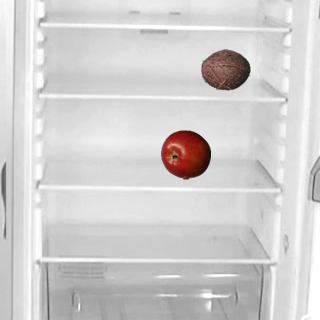Apple Braeburn: (160, 129, 210, 179)
Cocos: (200, 44, 250, 94)
